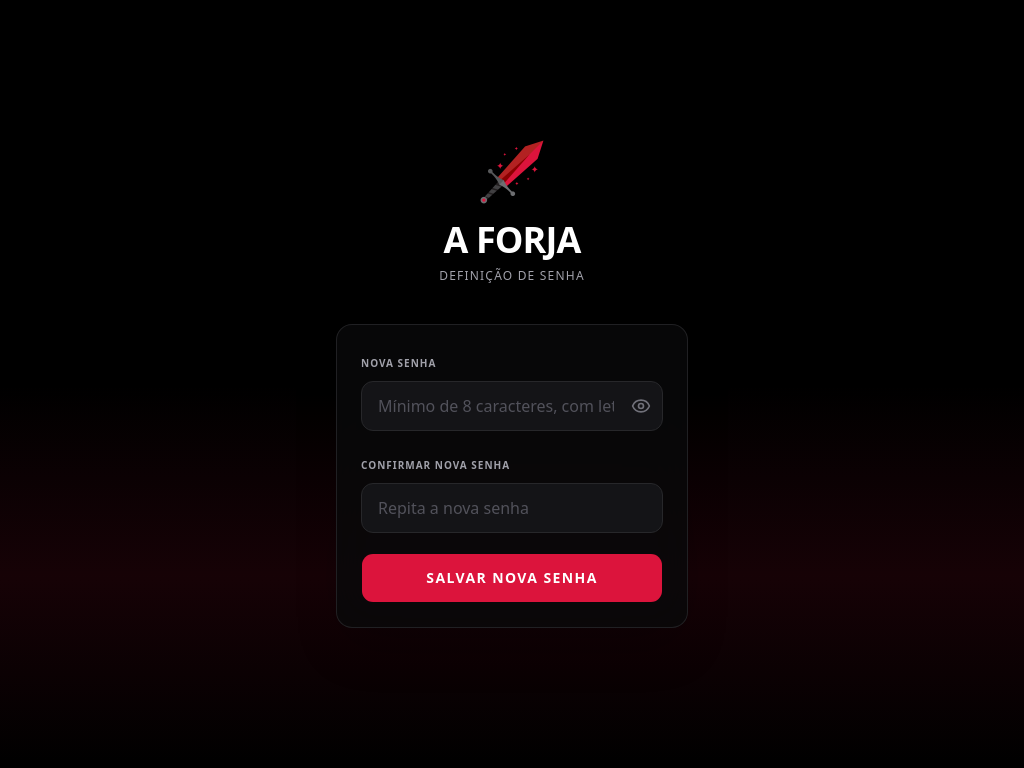
Scenario: SetPassword Page › 2. senhas diferentes mostram "Senhas Não Coincidem"
Type "Password123!" into the password field labelled "Nova Senha". click: (512, 406)
box: 361,381 -> 663,431
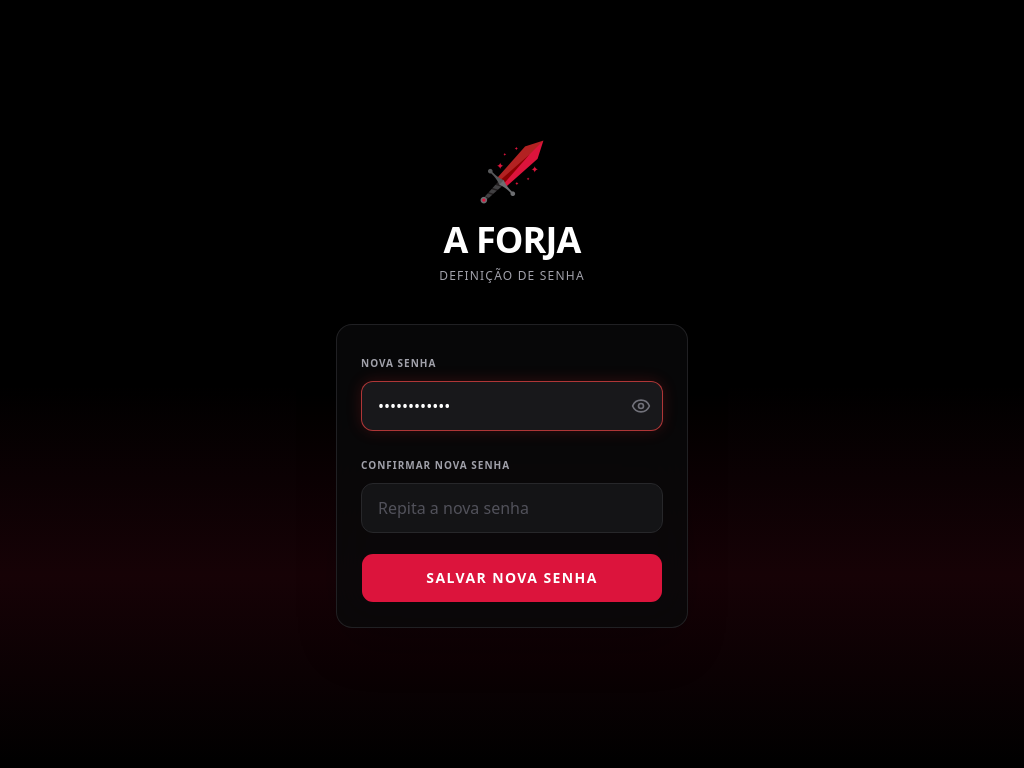
Type "Different123!" into the password field labelled "Confirmar Nova Senha". click: (512, 508)
box: 361,483 -> 663,533
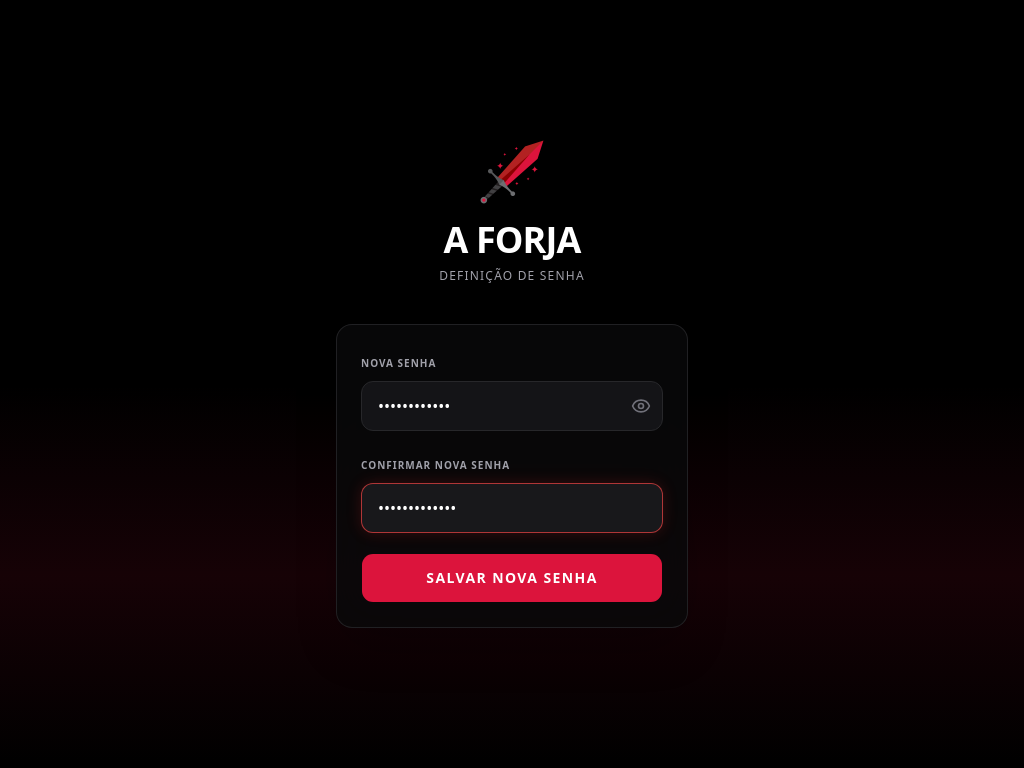
Click the button "Salvar Nova Senha". click: click(512, 578)
box: 361,553 -> 663,603
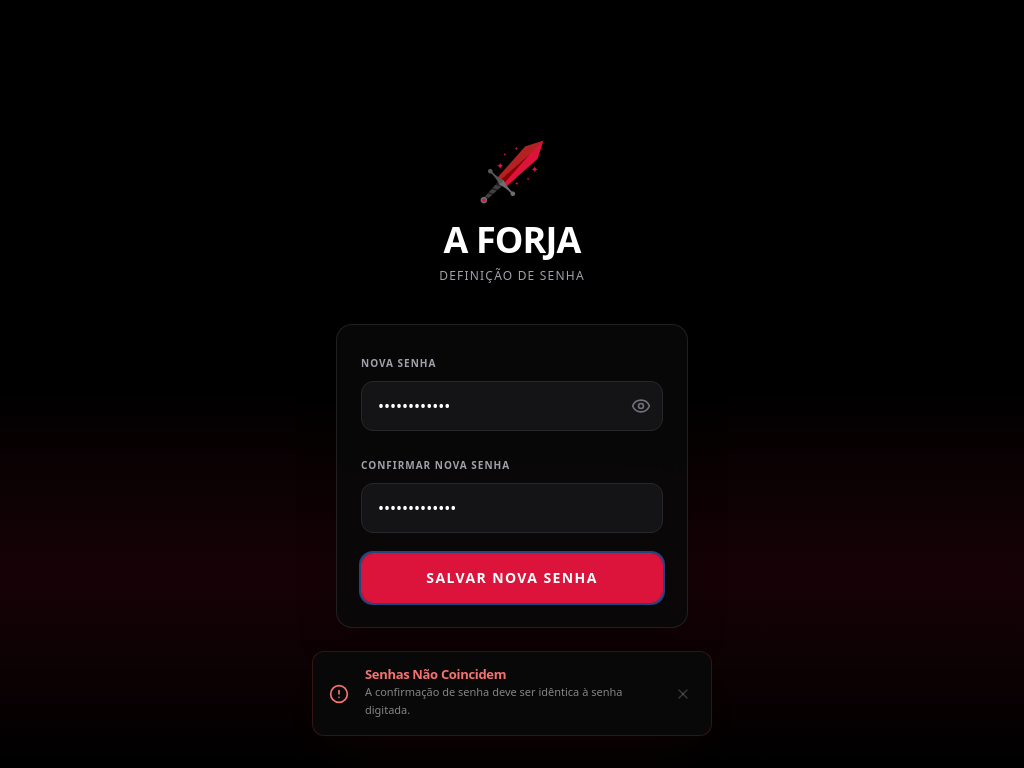
Expected: the heading "Senhas Não Coincidem" is shown, 365,668 -> 506,683
